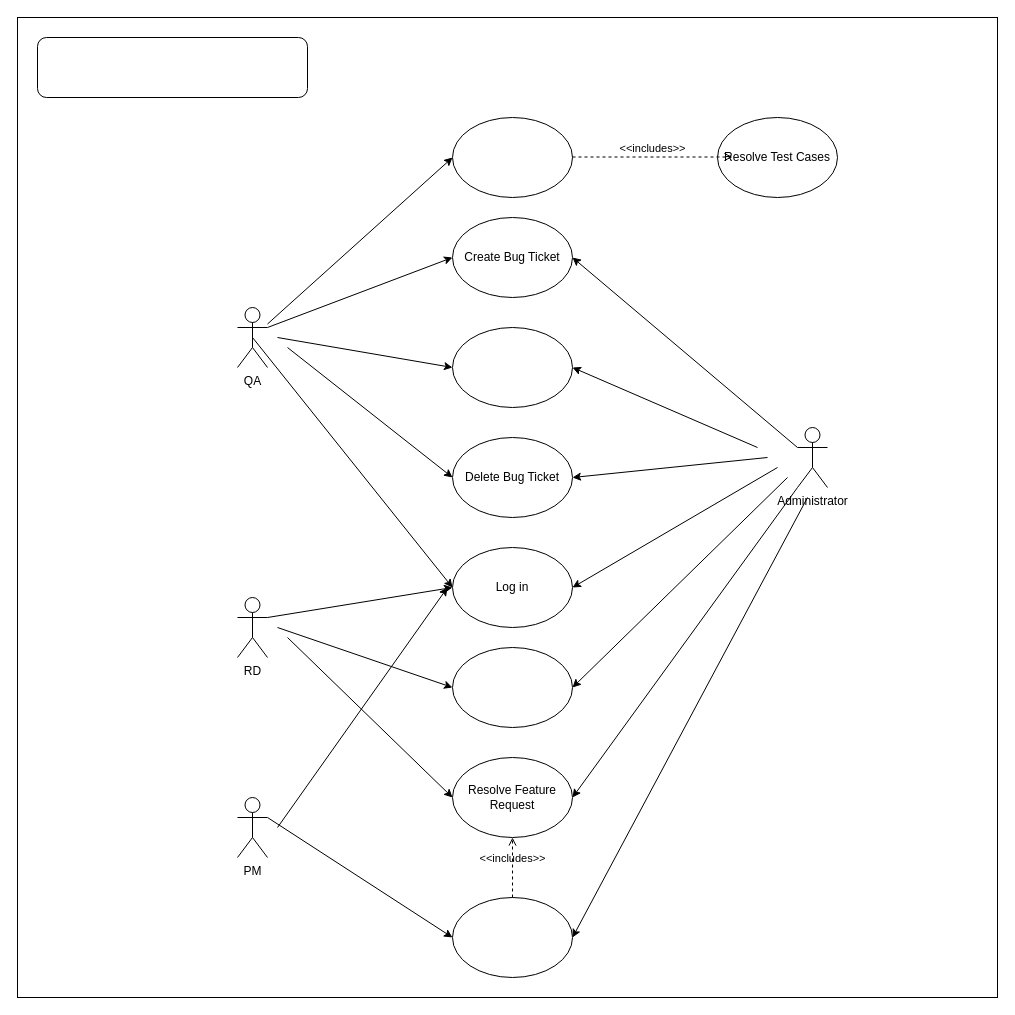
Image size: 1015x1015. Some labels were removed from this diagram. The centre of each missing label's shape, as x and y in pixels:
"Create new Feature Request" goes at (512,937).
"Create Test Case" goes at (512,157).
"Edit Bug Ticket" goes at (512,367).
"Resolve Bug Ticket" goes at (512,687).
"Ticket Tracking System - Use Case Diagram Phase II" goes at (172,67).
